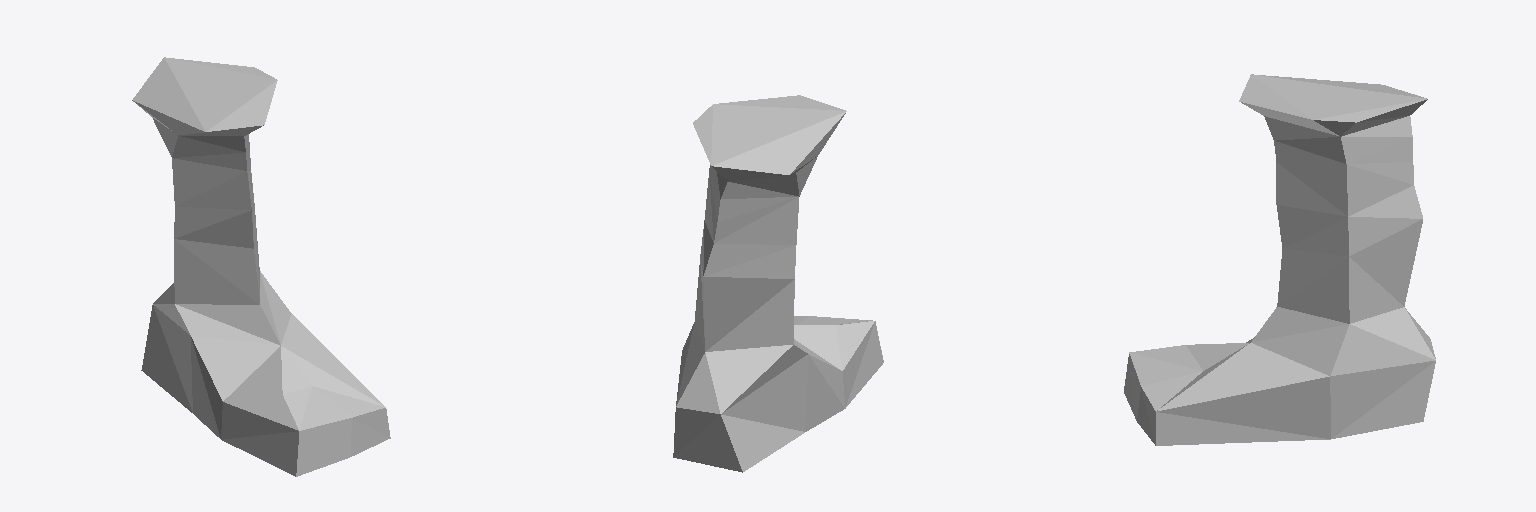
Rendered from piernaIzquierdaGumball.obj.
3 views of the same model, side by side, from view 1: azimuth 30°, elevation 25°; view 2: azimuth 150°, elevation 25°; view 3: azimuth 270°, elevation 25° (orthographic).
Parts seen in each view (by area): view 1: piernaIzquierda; view 2: piernaIzquierda; view 3: piernaIzquierda.
Part boxes in pixels (bbox=[...]): piernaIzquierda: bbox=[132, 57, 390, 476]; piernaIzquierda: bbox=[673, 95, 883, 472]; piernaIzquierda: bbox=[1124, 74, 1435, 445].
Bounding box in the file's own units: 1.01 × 2.06 × 1.89.